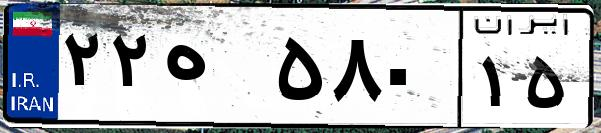0: (385, 28, 445, 110)
1: (475, 38, 525, 113)
2: (57, 26, 110, 100), (110, 28, 158, 98)
5: (270, 28, 330, 110), (525, 38, 570, 115)
8: (330, 28, 385, 110)
ه: (158, 20, 270, 120)
